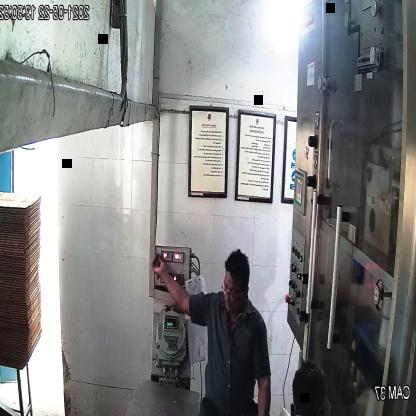goggles: (220, 280, 250, 304)
